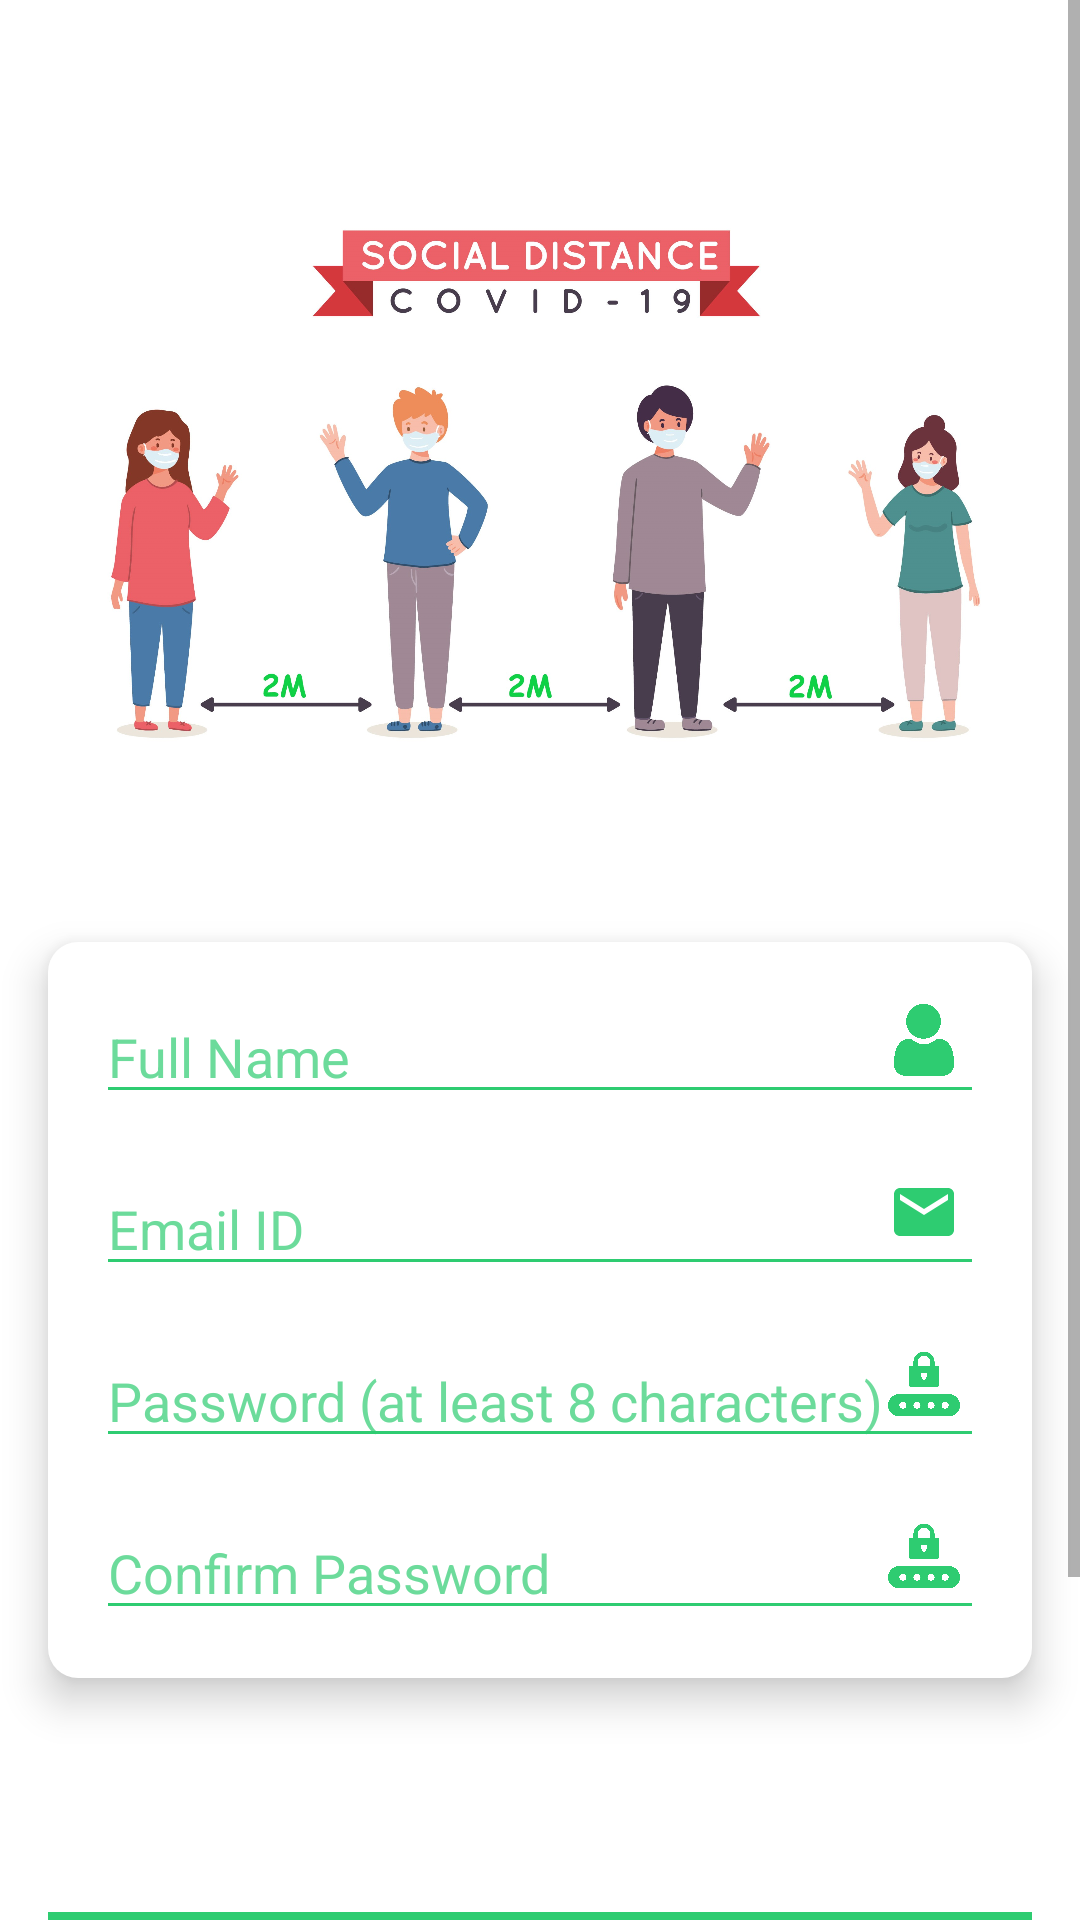

Where icons sit on this 1080x1920 app screen, as (x1, y1, x2, y2):
user: (894, 1004, 954, 1076)
